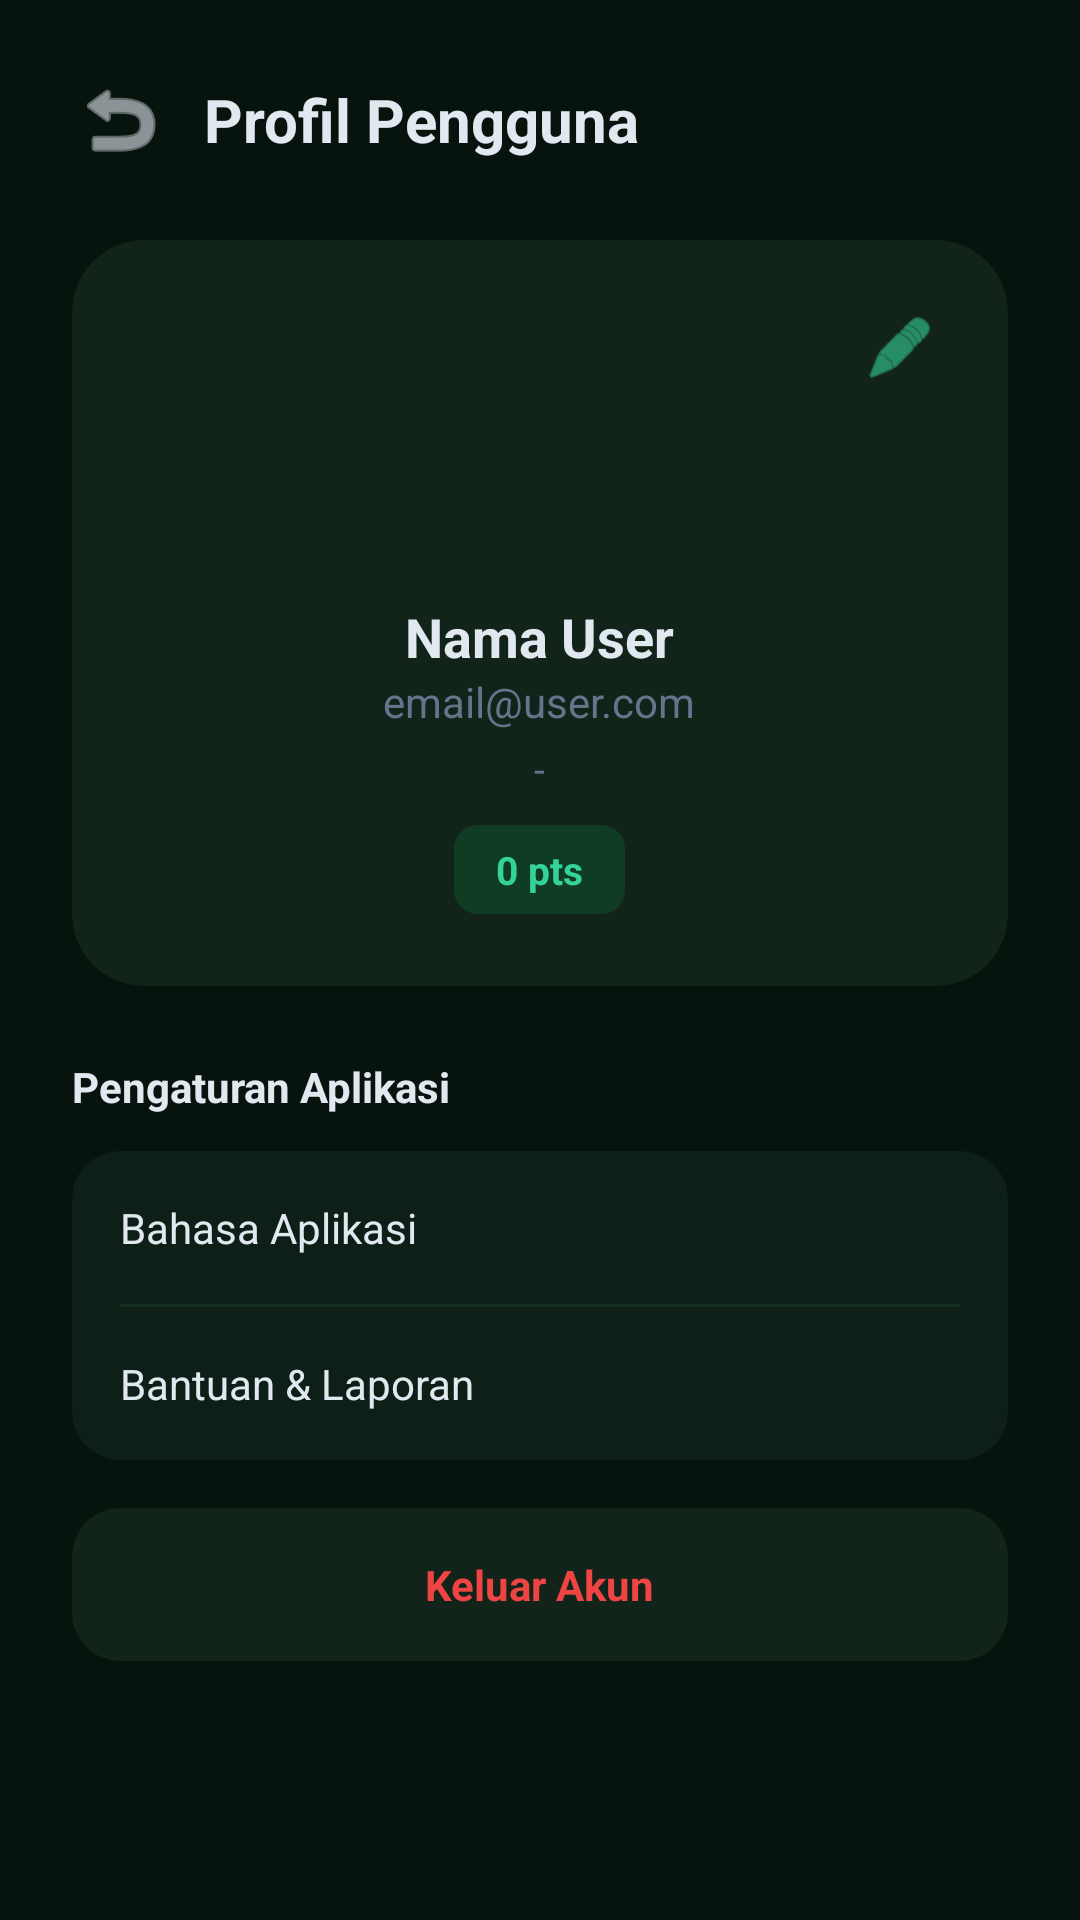

Where to tap for icons on this 1080x1920 app screen, as point (x, y):
edit: point (899, 347)
revert: point (121, 120)
